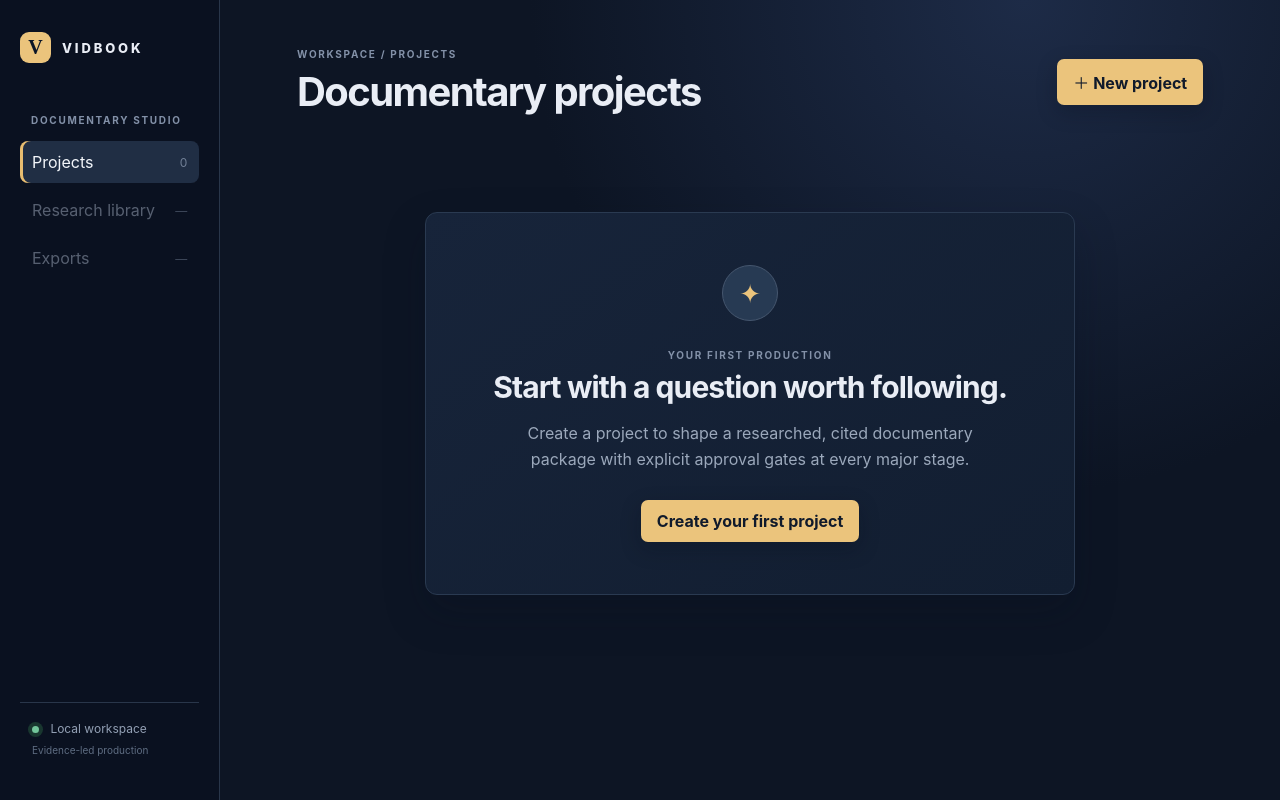
Test: project dashboard › shows the empty workspace and opens the project form
expect the heading "Start with a question worth following." is shown: met, box top-left (478, 369), bottom-right (1022, 405)
Click the button "Create your first project".
click(750, 521)  # box top-left (641, 500), bottom-right (859, 542)
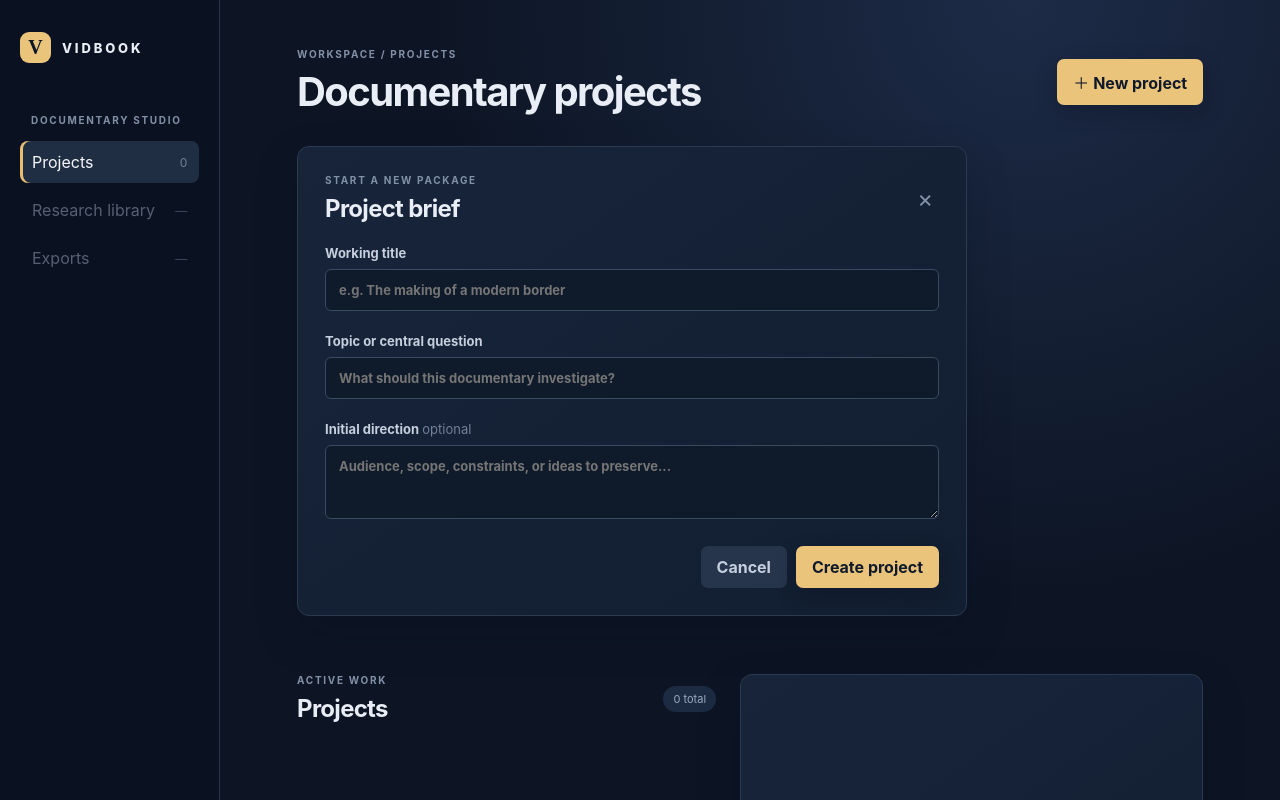
expect the heading "Project brief" is shown: met, box top-left (325, 194), bottom-right (477, 223)
